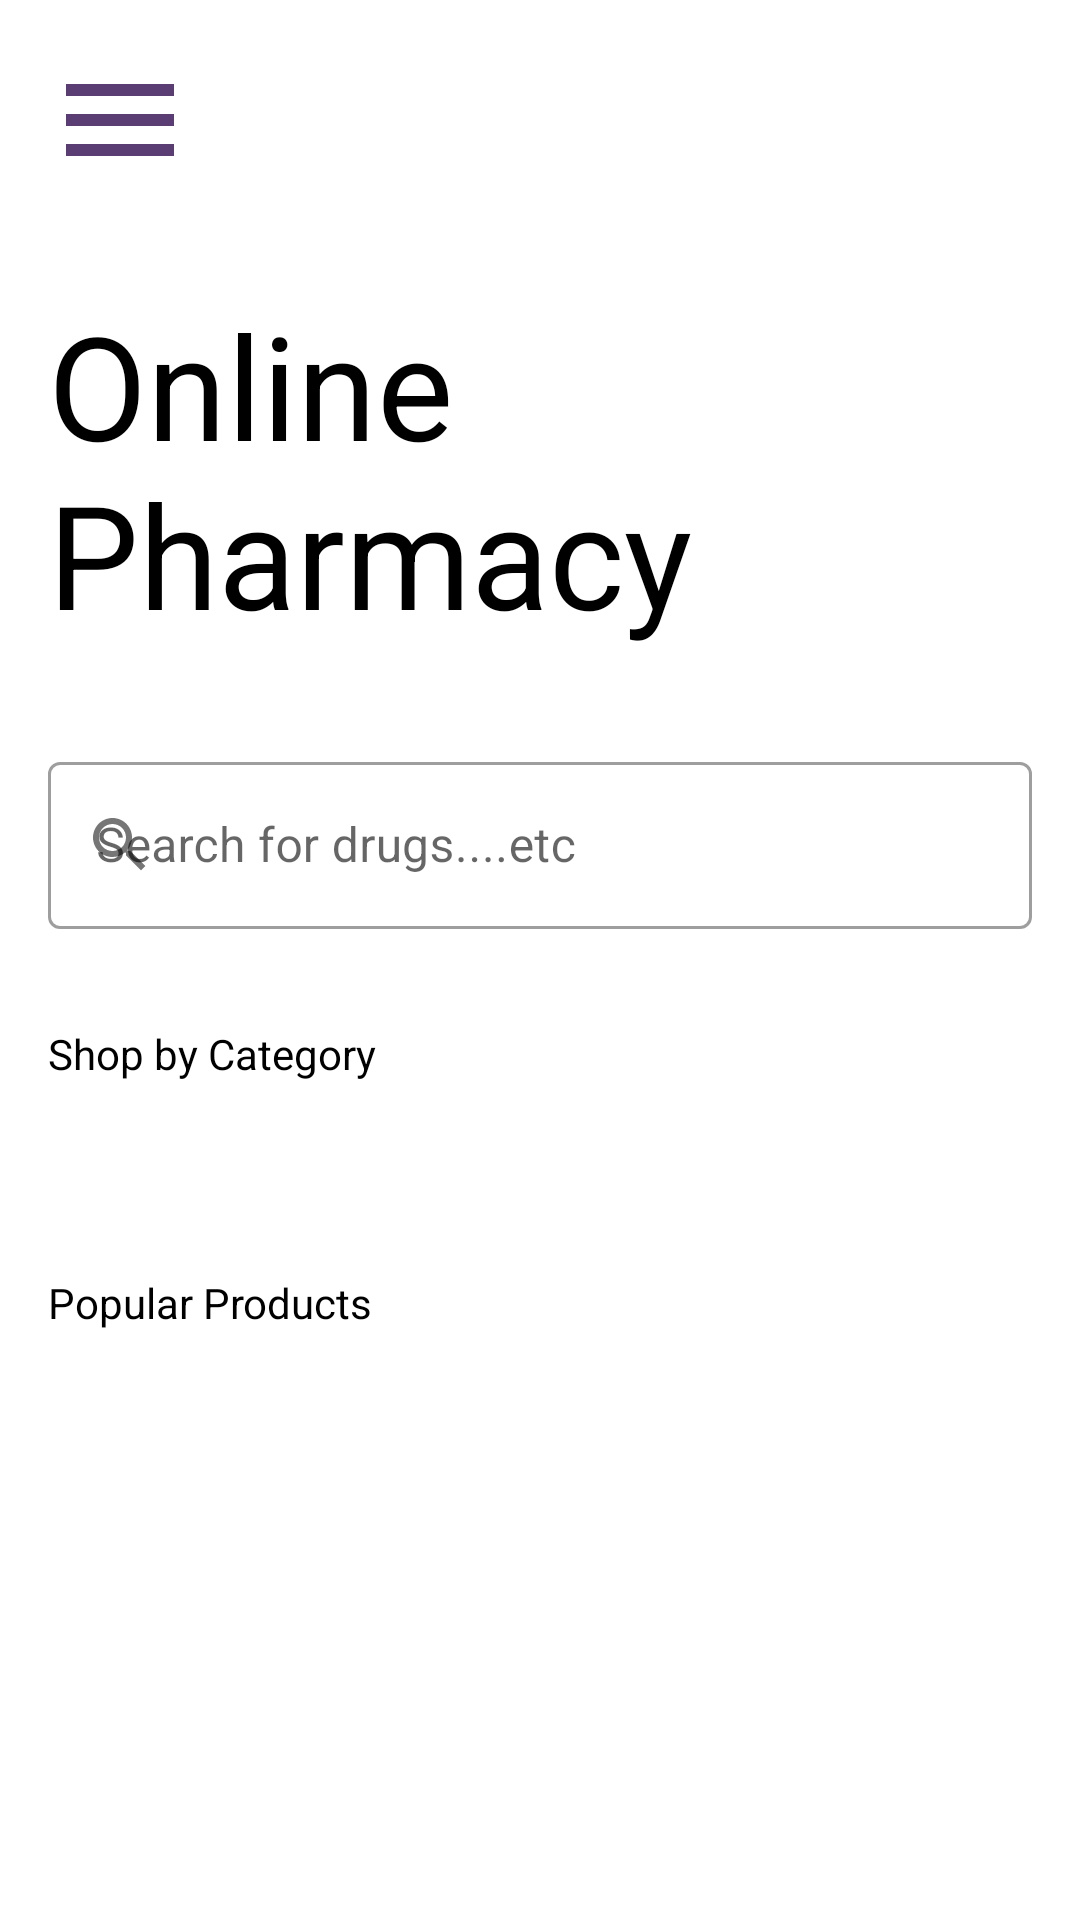

Icon click points for this 1080x1920 phone screenshot, format (x,y):
menu: (120,120)
